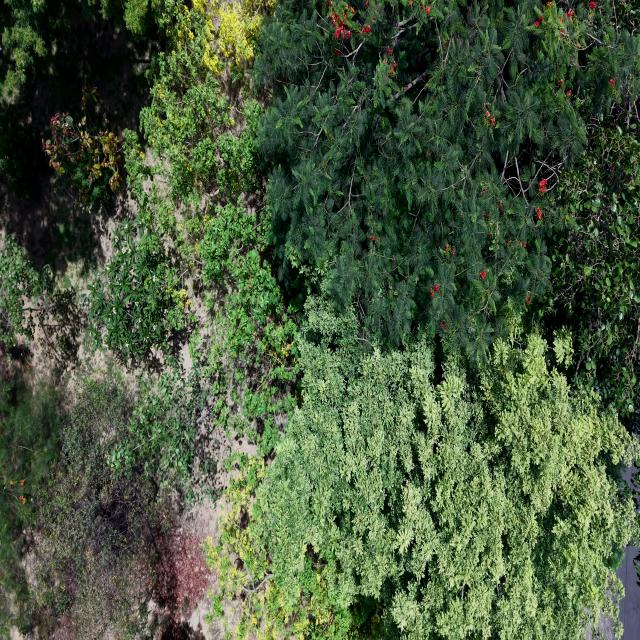DRY_AREA: (0, 150, 139, 408), (586, 544, 639, 639), (618, 544, 639, 639), (618, 545, 639, 639)
VEGETATION_TREE: (0, 0, 639, 639), (232, 288, 636, 637), (256, 1, 639, 358), (254, 297, 637, 639), (90, 2, 301, 501), (0, 0, 157, 637), (89, 2, 252, 372), (111, 201, 299, 501), (0, 0, 159, 275), (205, 458, 395, 639), (33, 382, 161, 639), (125, 2, 260, 231), (545, 99, 638, 428), (548, 113, 639, 426), (205, 458, 355, 639), (198, 200, 301, 452), (89, 224, 192, 374), (0, 371, 58, 637), (0, 375, 58, 637), (0, 234, 86, 384), (42, 84, 121, 212), (194, 0, 275, 73), (0, 235, 51, 345), (0, 0, 47, 100), (0, 113, 42, 197), (83, 0, 158, 35), (123, 0, 154, 34)
